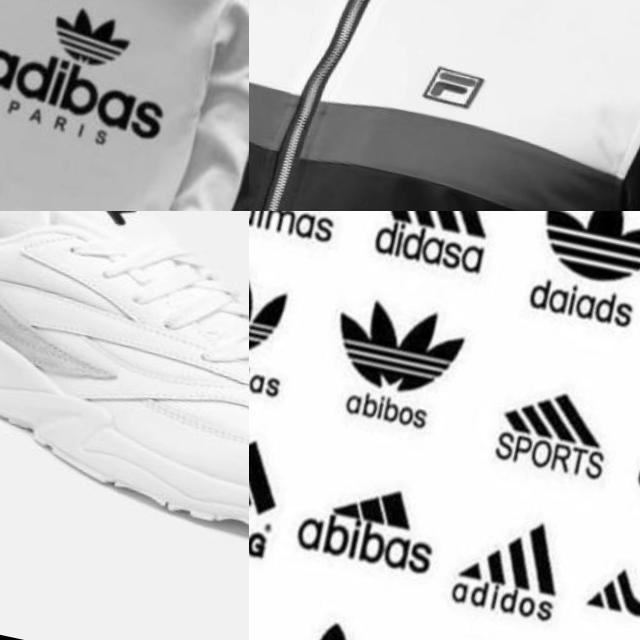ADIDAS_fake: (0, 0, 188, 170), (288, 446, 462, 604), (309, 286, 468, 441), (0, 31, 183, 158), (478, 350, 628, 494), (442, 494, 585, 636), (512, 211, 640, 349), (356, 211, 512, 290), (249, 399, 313, 578), (249, 260, 311, 410), (38, 0, 142, 82), (575, 525, 640, 640), (249, 603, 404, 640), (249, 211, 364, 257)
FILA_original: (398, 28, 522, 146), (84, 211, 149, 240)
